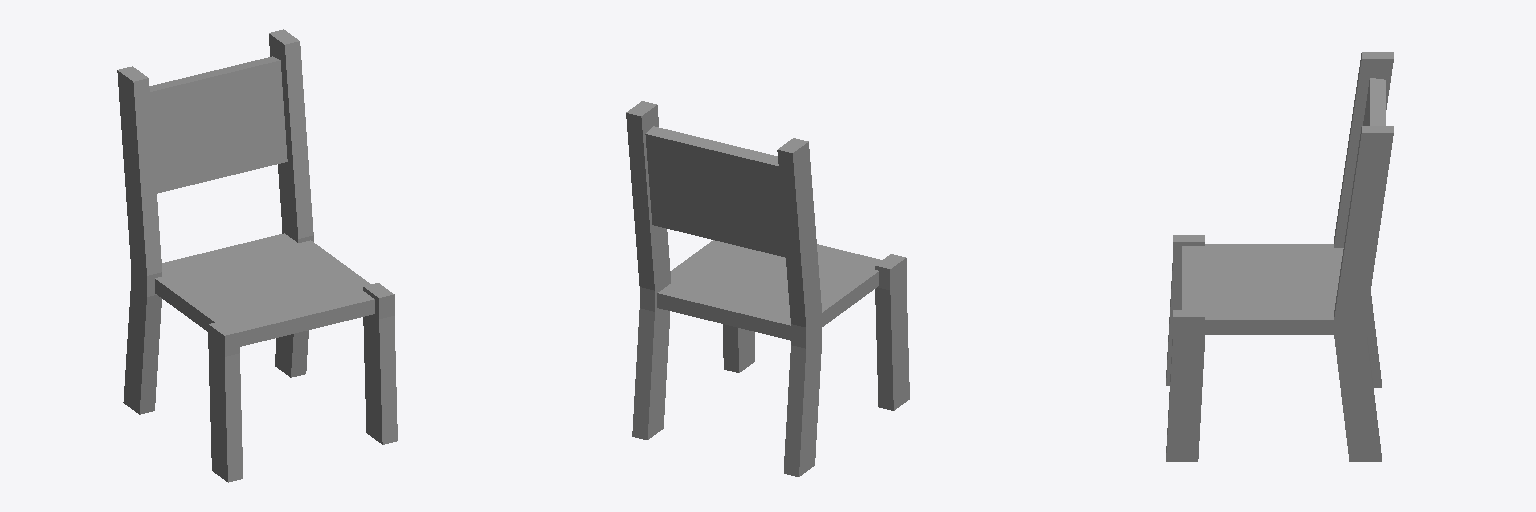
Rendered from chair.obj.
3 views of the same model, side by side, from view 1: azimuth 30°, elevation 25°; view 2: azimuth 150°, elevation 25°; view 3: azimuth 270°, elevation 25° (orthographic).
Visible parts, largest first — view 1: Plane.001_Plane.003, Plane.002_Plane.004; view 2: Plane.001_Plane.003, Plane.002_Plane.004; view 3: Plane.002_Plane.004, Plane.001_Plane.003.
Boxes of the visible parts, box(x1,y1,x2,y2) form: Plane.001_Plane.003: box(149, 56, 374, 346); Plane.002_Plane.004: box(117, 29, 397, 482); Plane.001_Plane.003: box(645, 126, 881, 340); Plane.002_Plane.004: box(626, 101, 909, 476); Plane.002_Plane.004: box(1166, 52, 1393, 461); Plane.001_Plane.003: box(1182, 78, 1385, 334).
Bounding box in the file's own units: 0.7385 × 1.36 × 0.8576.